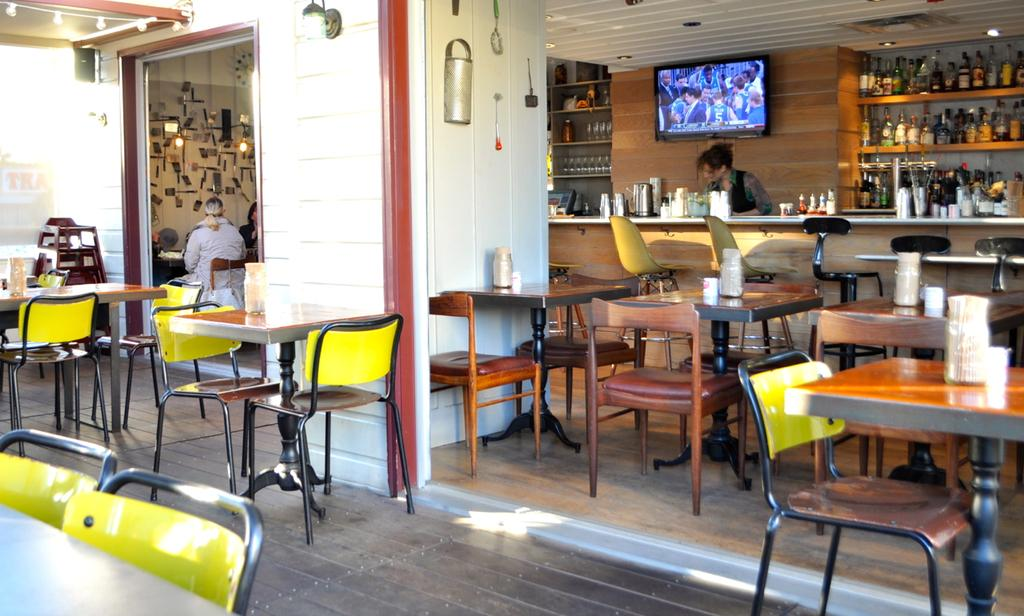Chair: (751, 325, 984, 614), (247, 310, 412, 544), (148, 302, 312, 522), (588, 294, 750, 514), (58, 458, 265, 614), (514, 276, 647, 444), (424, 294, 543, 474), (0, 290, 117, 458), (80, 279, 205, 424), (608, 217, 702, 375), (797, 221, 887, 374), (700, 210, 795, 353), (0, 428, 115, 535), (0, 267, 65, 381), (205, 255, 250, 342)
